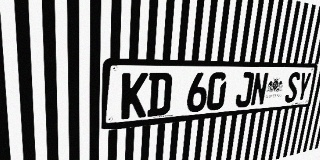0: (206, 72, 228, 111)
6: (186, 72, 209, 113)
D: (147, 73, 173, 117)
J: (235, 72, 255, 108)
K: (121, 73, 148, 120)
N: (250, 72, 269, 106)
S: (284, 72, 301, 103)
Y: (296, 72, 312, 102)
